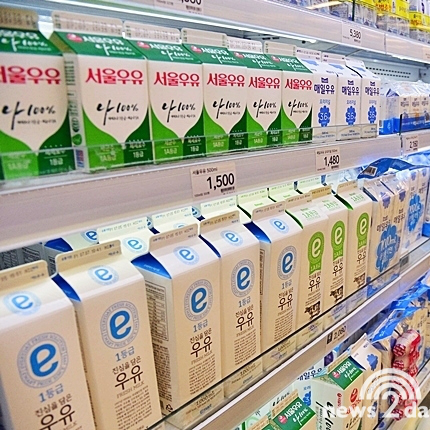milk: (41, 183, 415, 426), (1, 6, 389, 179), (1, 242, 162, 430), (379, 78, 430, 133)
